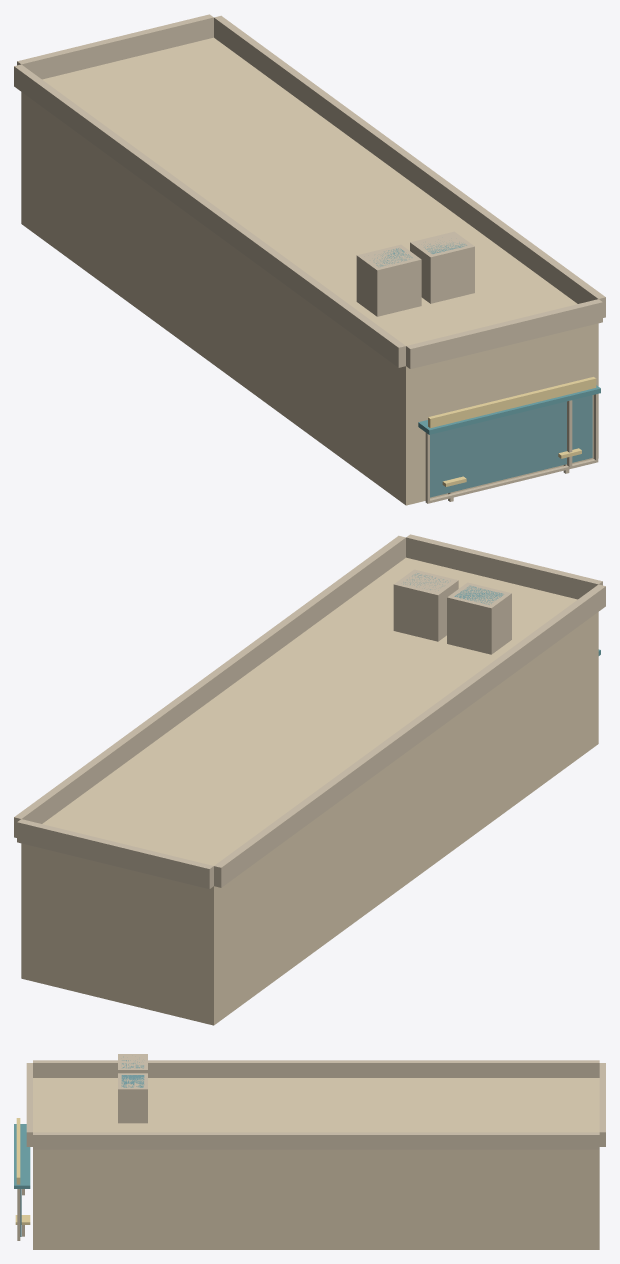
Rendered from commercial_1x3_a.glb.
3 views of the same model, one above another, from view 1: azimuth 30°, elevation 25°; view 2: azimuth 150°, elevation 25°; view 3: azimuth 270°, elevation 25° (orthographic). The views are drawn at different scales.
Visible parts, largest first — view 1: commercial_1x3_a_0; view 2: commercial_1x3_a_0; view 3: commercial_1x3_a_0.
Part boxes in pixels (left/top/right/bottom): commercial_1x3_a_0: left=14, top=14, right=605, bottom=505; commercial_1x3_a_0: left=14, top=534, right=605, bottom=1025; commercial_1x3_a_0: left=14, top=1054, right=605, bottom=1249.
Bounding box in the file's own units: 7 × 6 × 23.5.
